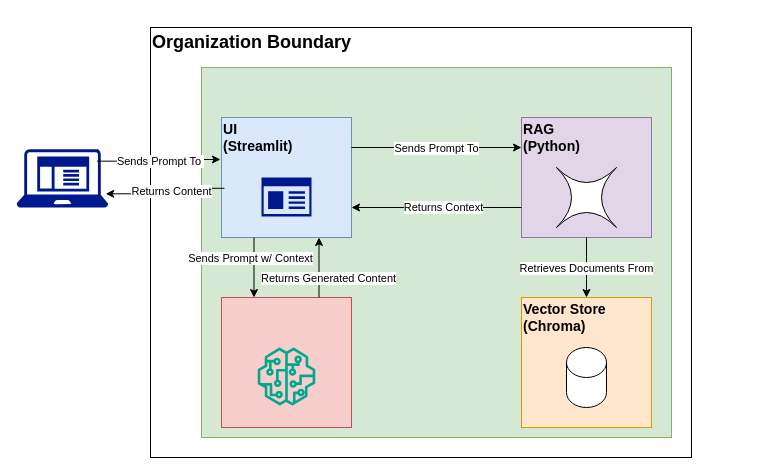
The diagram is 769 pixels wide and 475 high, and some of its shapes have lost their labels. Each missing label, with the box of its shape:
Generative Model (Ollama): (220, 296, 352, 428)
LiteRAGBot System: (200, 66, 672, 438)
